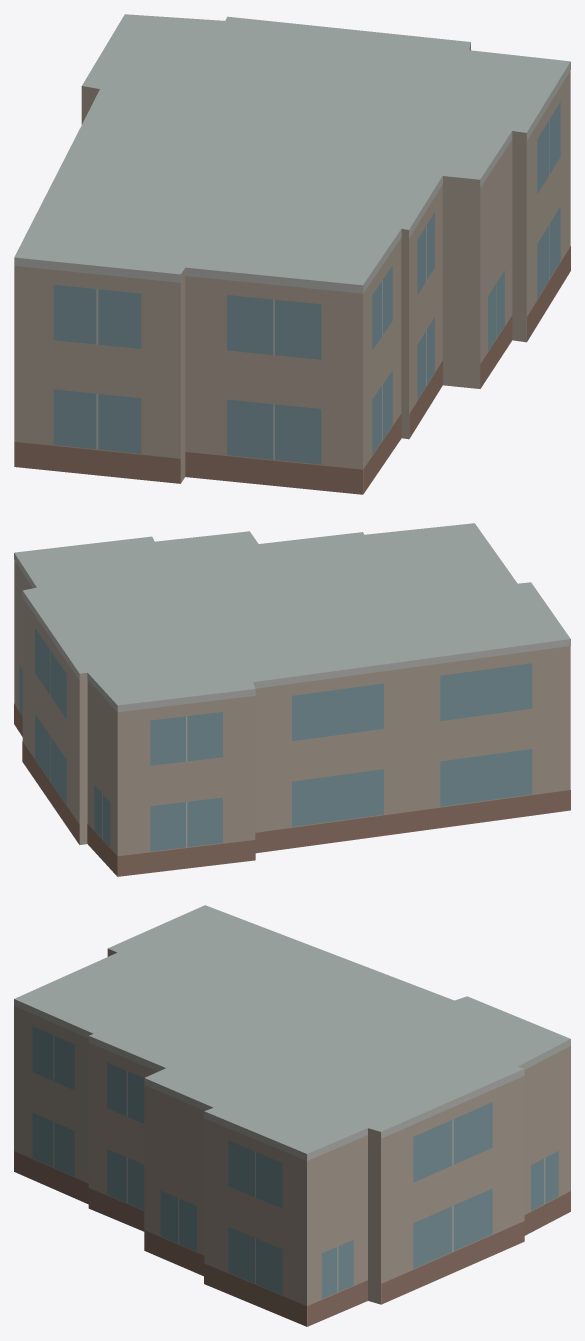
The model's file is survey-upis-32667576.glb.
The picture shows the model from 3 angles, top to bottom: view 1: azimuth 30°, elevation 25°; view 2: azimuth 150°, elevation 25°; view 3: azimuth 270°, elevation 25°; orthographic projection. The views are drawn at different scales.
Visible parts, largest first — view 1: survey-upis-32667576.tmp; view 2: survey-upis-32667576.tmp; view 3: survey-upis-32667576.tmp.
Boxes of the visible parts, x1,y1,x2,y2 form: survey-upis-32667576.tmp: (14, 14, 570, 494); survey-upis-32667576.tmp: (14, 523, 570, 876); survey-upis-32667576.tmp: (14, 905, 570, 1326).
Bounding box in the file's own units: 18.86 × 6.1 × 17.82.
